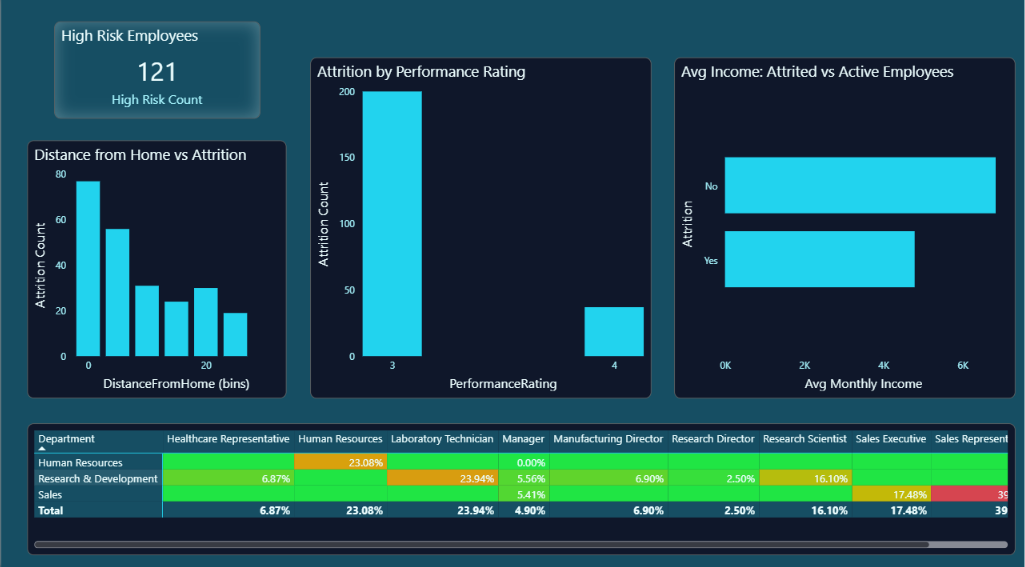

What the dashboard file says about the page in this screenshot:
{"tool":"powerbi","page":{"name":"Workforce Health","canvas":[1280,720],"ordinal":2},"visuals":[{"type":"pivotTable","fields":{"Rows":["HR_Data.Department"],"Columns":["HR_Data.JobRole"],"Values":["_Measures.Dept Attrition Rate"]},"box":[32.5,536.2,1235,165],"z":0},{"type":"card","title":"High Risk Employees","fields":{"Values":["_Measures.High Risk Count"]},"box":[66.2,33.8,257.5,121.2],"z":1000},{"type":"clusteredColumnChart","title":"Attrition by Performance Rating","fields":{"Category":["HR_Data.PerformanceRating"],"Y":["_Measures.Attrition Count"]},"box":[386.2,78.8,426.2,426.2],"z":2000},{"type":"clusteredBarChart","title":"Avg Income: Attrited vs Active Employees","fields":{"Category":["HR_Data.Attrition"],"Y":["_Measures.Avg Monthly Income"]},"box":[841.2,78.8,426.2,426.2],"z":3000},{"type":"clusteredColumnChart","title":"Distance from Home vs Attrition","fields":{"Category":["HR_Data.DistanceFromHome (bins)"],"Y":["_Measures.Attrition Count"]},"box":[32.5,182.5,323.8,322.5],"z":4000}]}

Visuals, with their boxes in screenshot pixels (x1, y1, x2, y2), scaled from the page's 1280x720 canvas onto the 1025x567 screenshot:
pivotTable - HR_Data.Department x HR_Data.JobRole: left=26, top=422, right=1015, bottom=552
"High Risk Employees" card: left=53, top=27, right=259, bottom=122
"Attrition by Performance Rating" clusteredColumnChart: left=309, top=62, right=651, bottom=398
"Avg Income: Attrited vs Active Employees" clusteredBarChart: left=674, top=62, right=1015, bottom=398
"Distance from Home vs Attrition" clusteredColumnChart: left=26, top=144, right=285, bottom=398
